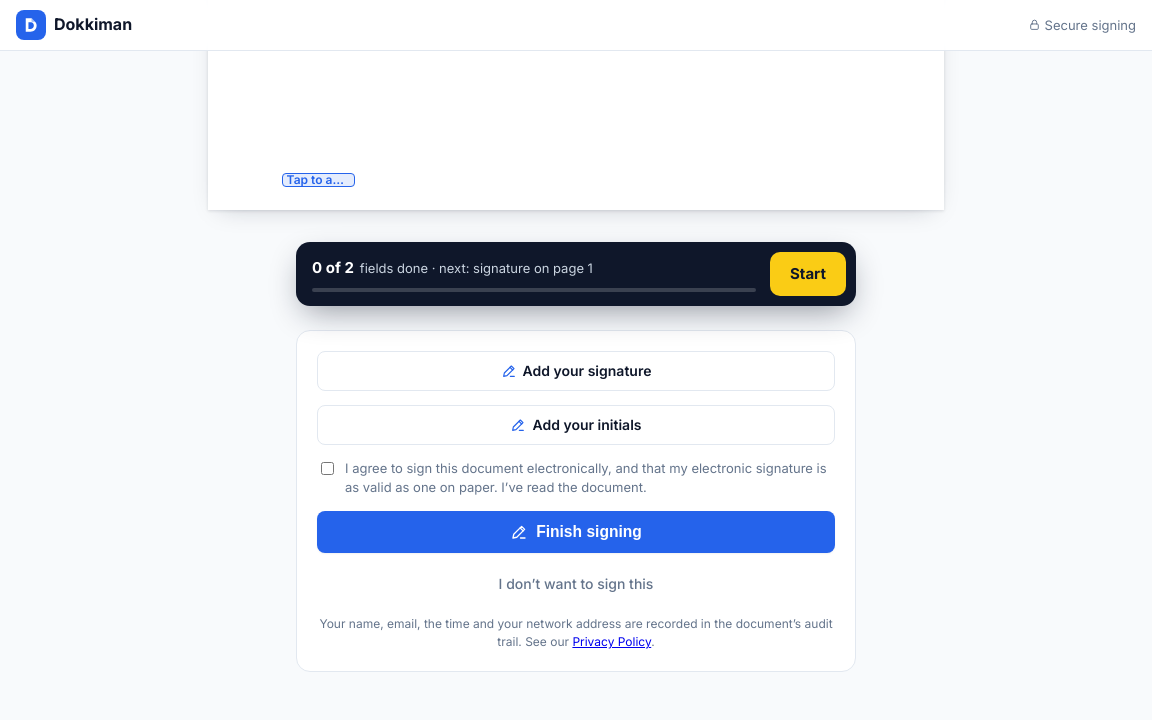
declining sends the reason
(page scrolled)
Click the button "I don’t want to sign this".
click(576, 584)  # box [499, 567, 653, 601]
(page scrolled)
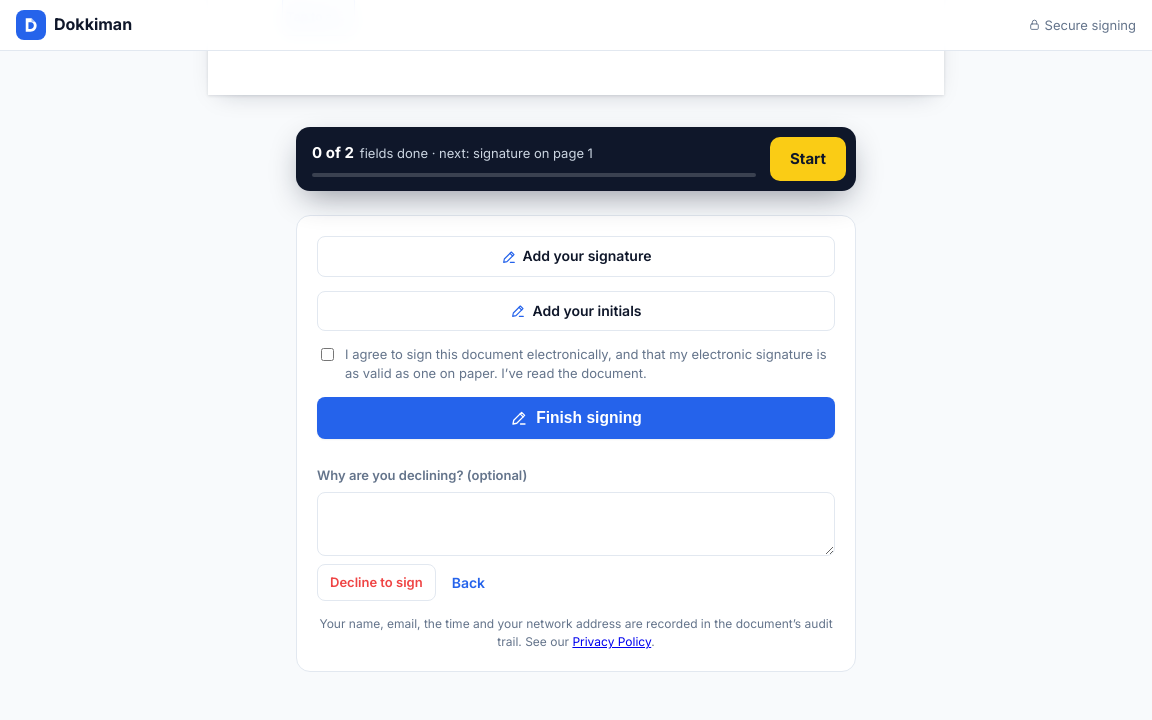
Type "Wrong rent" into the text box labelled "Why are you declining? (optional)".
click(576, 524); type("Wrong rent")  # box [317, 492, 835, 556]
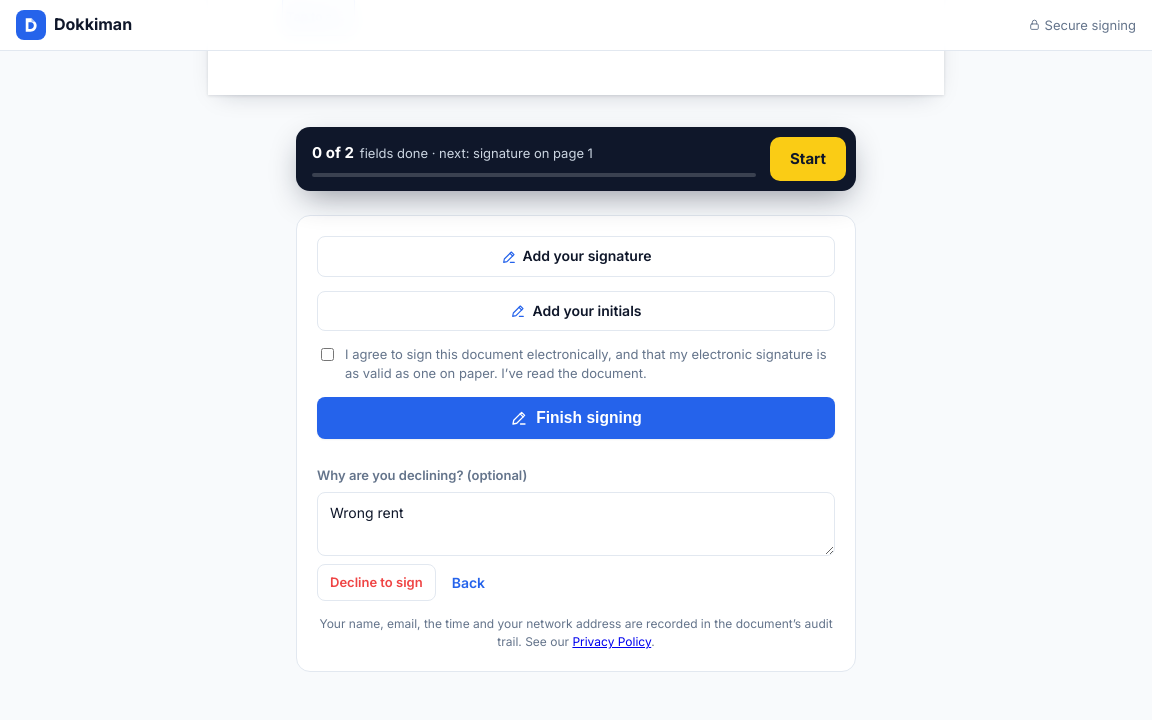
Click the button "Decline to sign".
click(376, 583)  # box [317, 564, 436, 601]
(page scrolled)
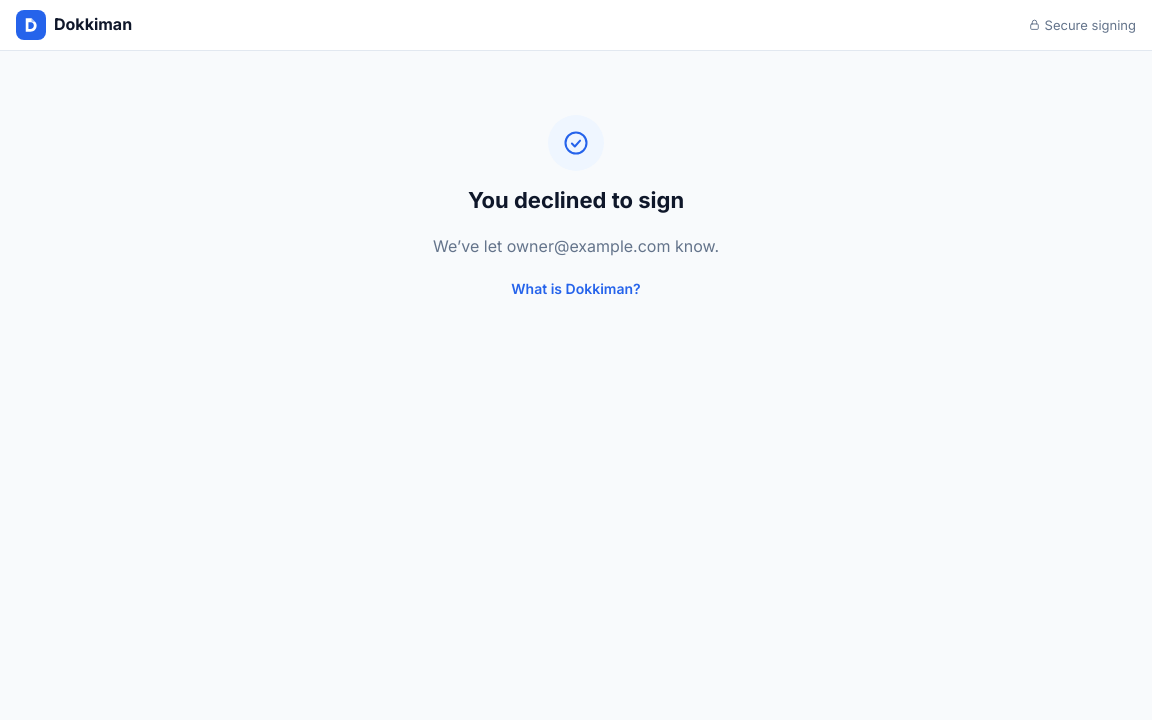
Expected: the heading "You declined to sign" is shown, [468, 187, 684, 213]
